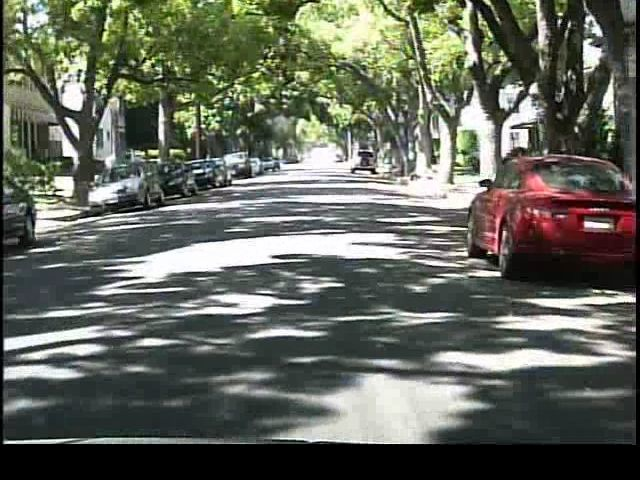person: (104, 147, 127, 198)
